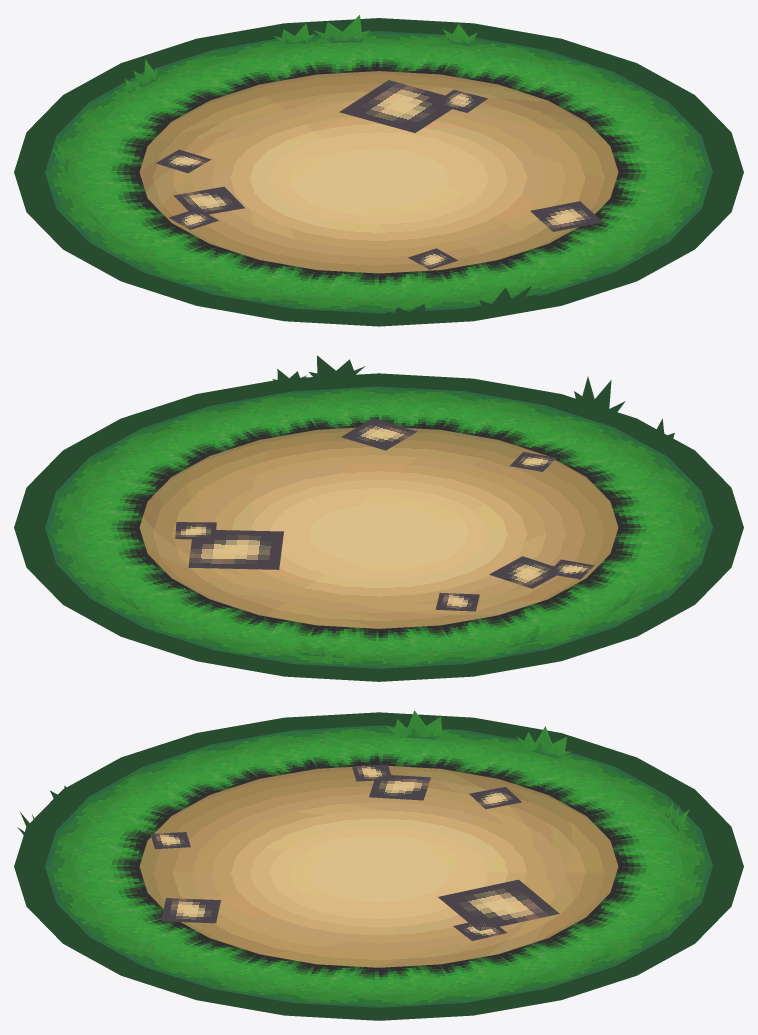
Rendered from StageGrass.fbx.
3 renders of one model, top to bottom at view 1: azimuth 30°, elevation 25°; view 2: azimuth 150°, elevation 25°; view 3: azimuth 270°, elevation 25°, orthographic.
Visible parts, largest first — view 1: batt_stage01; view 2: batt_stage01; view 3: batt_stage01.
Boxes of the visible parts, left/top/right/bottom form: batt_stage01: left=14, top=15, right=743, bottom=326; batt_stage01: left=14, top=355, right=743, bottom=681; batt_stage01: left=14, top=710, right=743, bottom=1020.
Bounding box in the file's own units: 5.48 × 0.2959 × 5.48.
